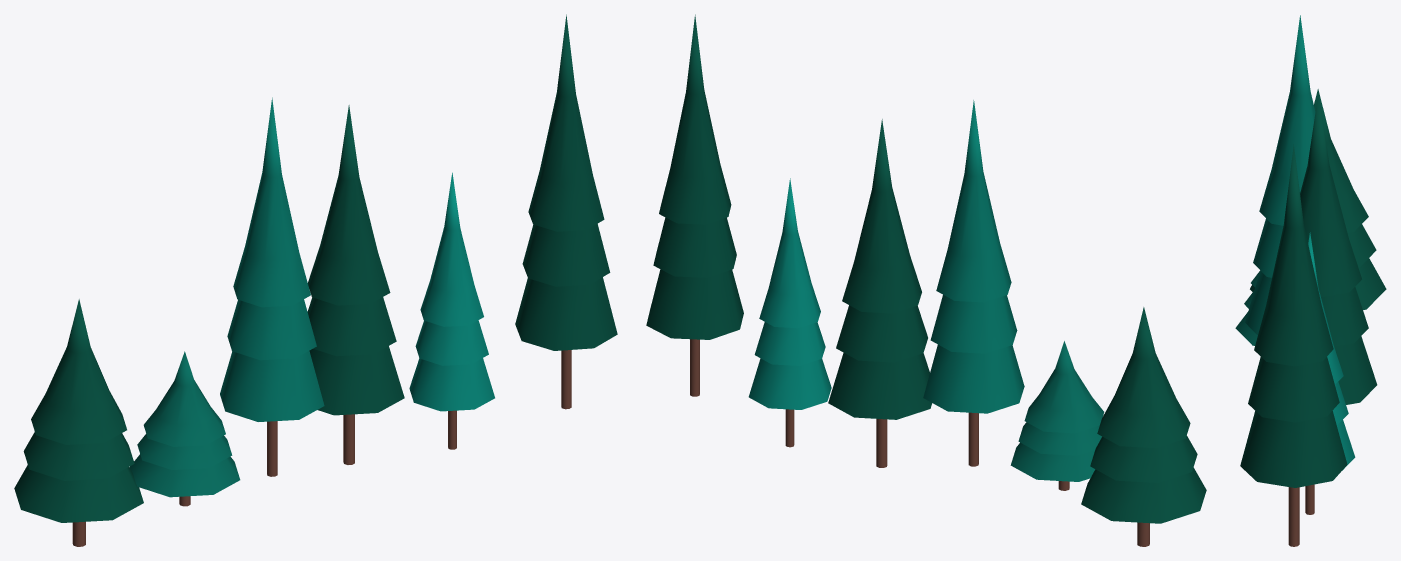
Rendered from cay.fbx.
3 renders of one model, left to right at view 1: azimuth 30°, elevation 25°; view 2: azimuth 150°, elevation 25°; view 3: azimuth 270°, elevation 25°, orthographic. The views are drawn at different scales.
Visible parts, largest first — view 1: Firtree_4, Firtree_2, Firtree_1, Firtree_47, Firtree, Firtree_3; view 2: Firtree_1, Firtree_2, Firtree_4, Firtree_47, Firtree, Firtree_3; view 3: Firtree_4, Firtree_1, Firtree_2, Firtree_47, Firtree, Firtree_3.
Part boxes in pixels (x1,y1,x2,y2): Firtree_4: [515, 14, 617, 409]; Firtree_2: [220, 97, 324, 476]; Firtree_1: [307, 105, 404, 464]; Firtree_47: [14, 299, 143, 546]; Firtree: [409, 172, 494, 449]; Firtree_3: [129, 351, 240, 506]; Firtree_1: [828, 119, 932, 467]; Firtree_2: [923, 100, 1024, 466]; Firtree_4: [646, 14, 743, 396]; Firtree_47: [1081, 307, 1206, 546]; Firtree: [748, 178, 831, 447]; Firtree_3: [1010, 341, 1104, 490]; Firtree_4: [1240, 144, 1347, 546]; Firtree_1: [1300, 92, 1377, 404]; Firtree_2: [1245, 15, 1315, 335]; Firtree_47: [1250, 89, 1386, 309]; Firtree: [1305, 232, 1355, 514]; Firtree_3: [1235, 270, 1260, 345].
Bounding box in the file's own units: 1674 × 1168 × 371.
